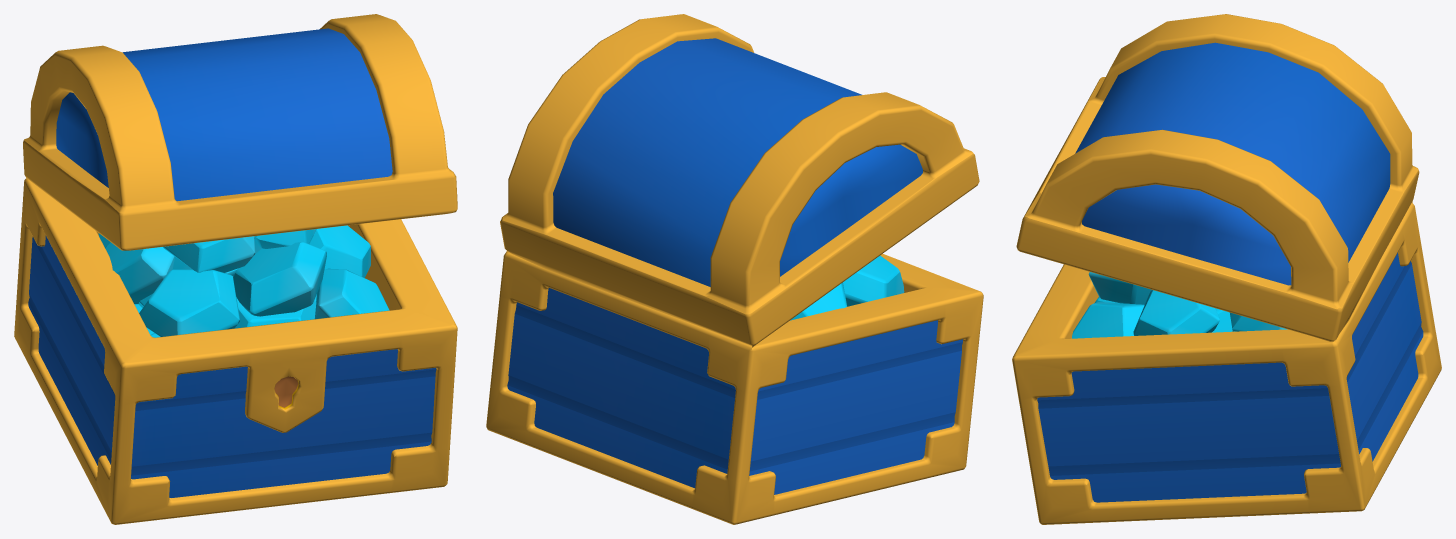
3 views of the same model, side by side, from view 1: azimuth 30°, elevation 25°; view 2: azimuth 150°, elevation 25°; view 3: azimuth 270°, elevation 25° (orthographic). The views are drawn at different scales.
Visible parts, largest first — view 1: model_1.098; view 2: model_1.098; view 3: model_1.098.
Part boxes in pixels (bbox=[...]): model_1.098: bbox=[14, 14, 457, 524]; model_1.098: bbox=[486, 14, 983, 524]; model_1.098: bbox=[1012, 14, 1441, 524].
Size of the model in its own units: 5.04 by 5.27 by 5.27.
